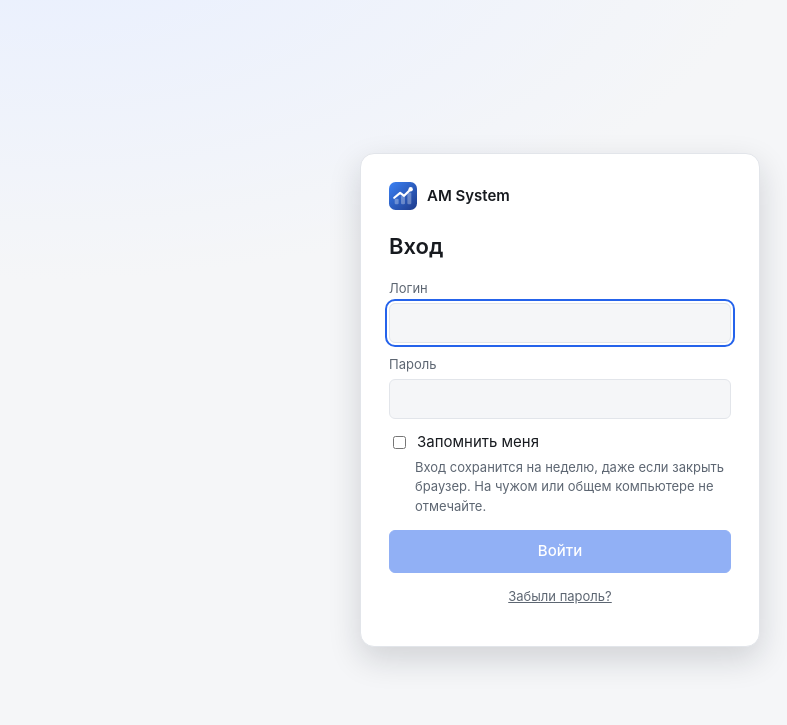
Test: LoginPage › explains a refusal
The width and height of the screenshot is (787, 725).
Type "  ivanov " into the field labelled "Логин" at (560, 323), box top-left (389, 302), bottom-right (731, 343)
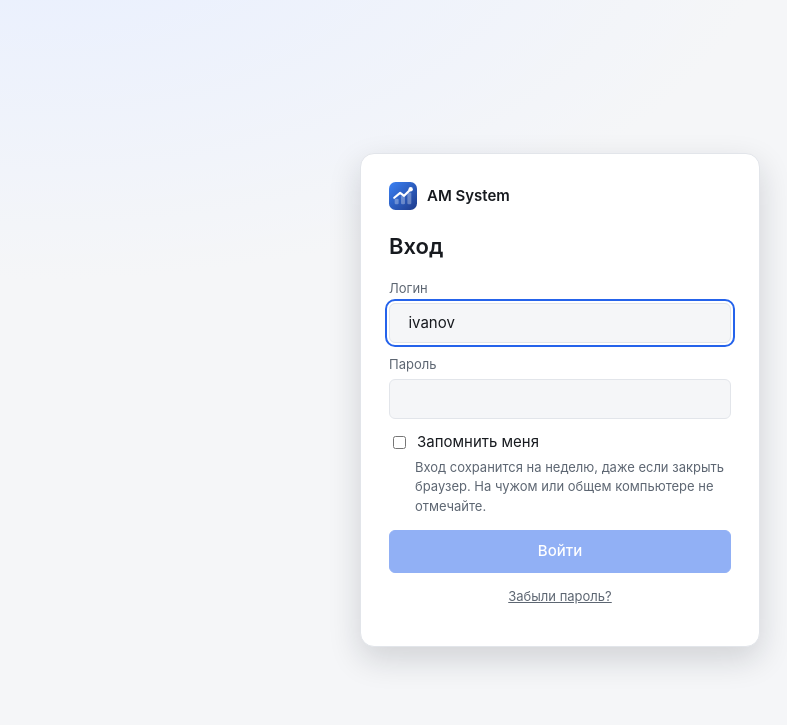
Type "temporary-1" into the password field labelled "Пароль" at (560, 399), box top-left (389, 378), bottom-right (731, 419)
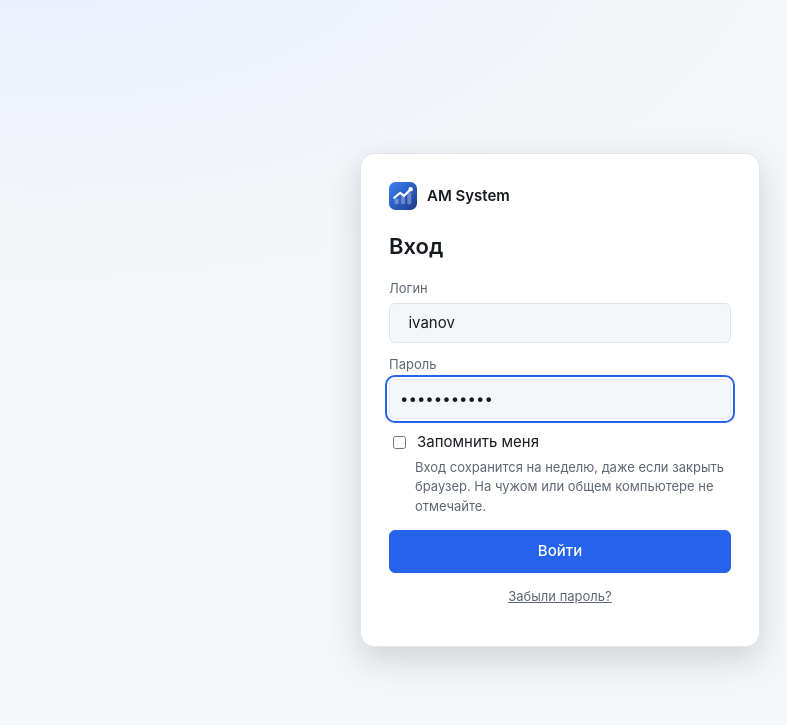
Click the button "Войти" at (560, 551), box top-left (389, 530), bottom-right (731, 572)
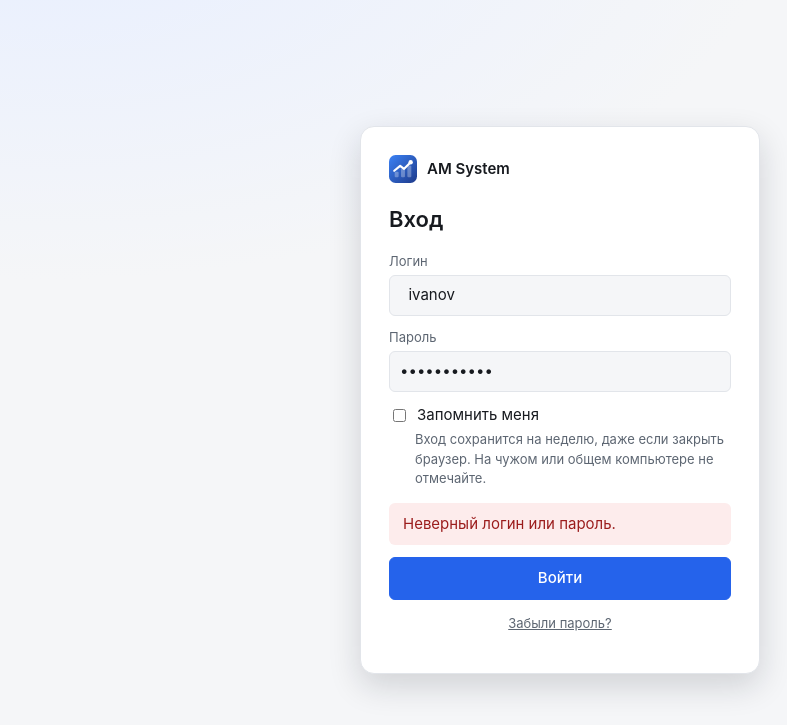
Now the message reads "Неверный логин или пароль.", box top-left (403, 514), bottom-right (616, 533)
Click the button "Войти" at (560, 579), box top-left (389, 557), bottom-right (731, 600)
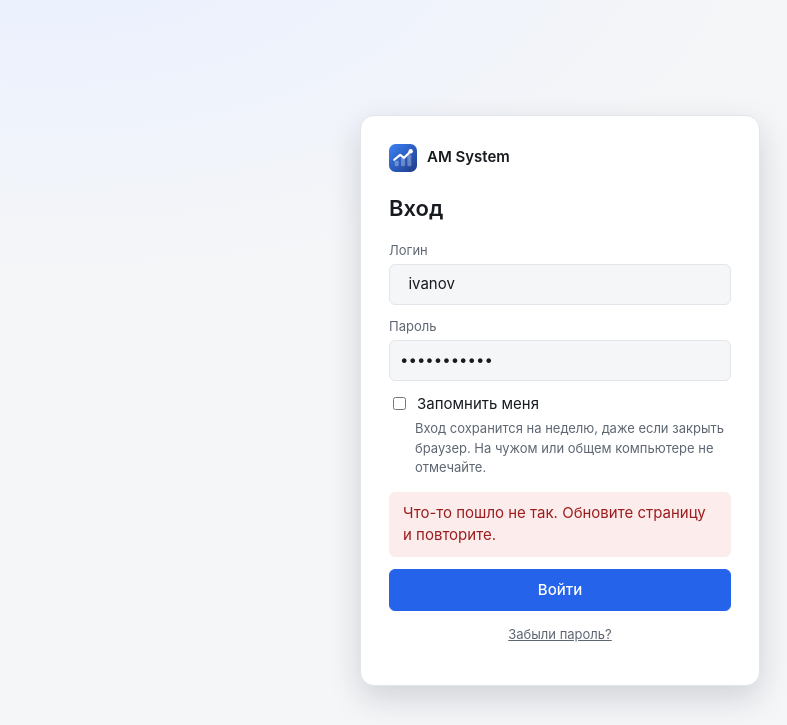
Now the message shows "Что-то пошло не так", box top-left (403, 502), bottom-right (706, 544)
